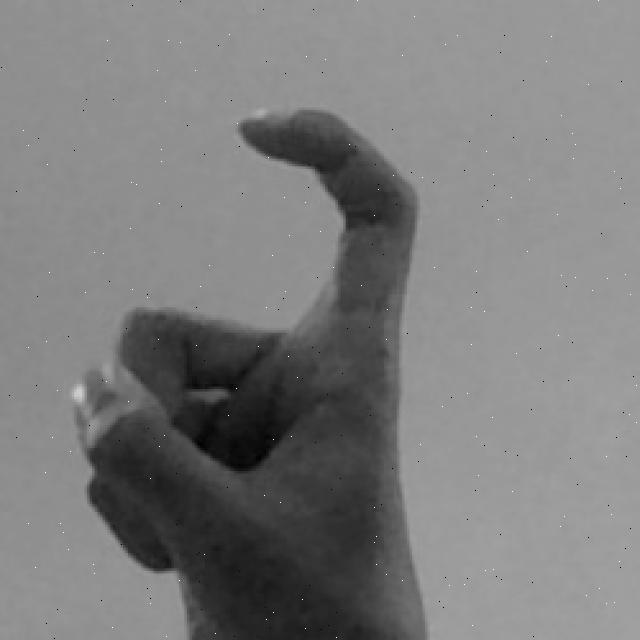X: (62, 97, 436, 640)
